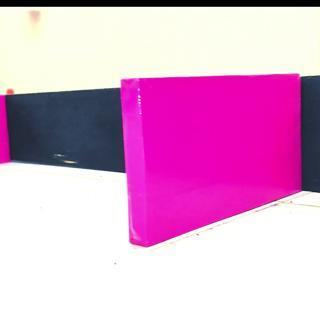xparking: (129, 76, 301, 212)
